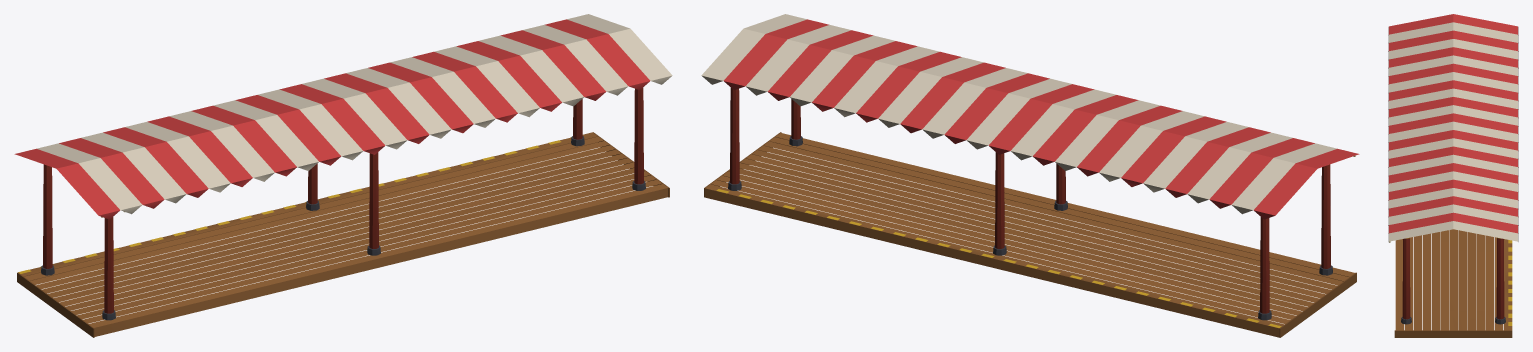
The model's file is c_station.glb.
3 renders of one model, left to right at view 1: azimuth 30°, elevation 25°; view 2: azimuth 150°, elevation 25°; view 3: azimuth 270°, elevation 25°, orthographic. The views are drawn at different scales.
Visible parts, largest first — view 1: c_station; view 2: c_station; view 3: c_station.
Boxes of the visible parts, x1,y1,x2,y2 form: c_station: (14,14,672,337); c_station: (701,14,1359,337); c_station: (1388,14,1518,337).
Bounding box in the file's own units: 26.1 × 6.1 × 6.64.
